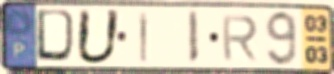9: (263, 9, 299, 69)
D: (35, 8, 81, 66)
I: (186, 9, 200, 66), (138, 10, 150, 65)
R: (219, 13, 260, 62)
U: (74, 7, 124, 67)
